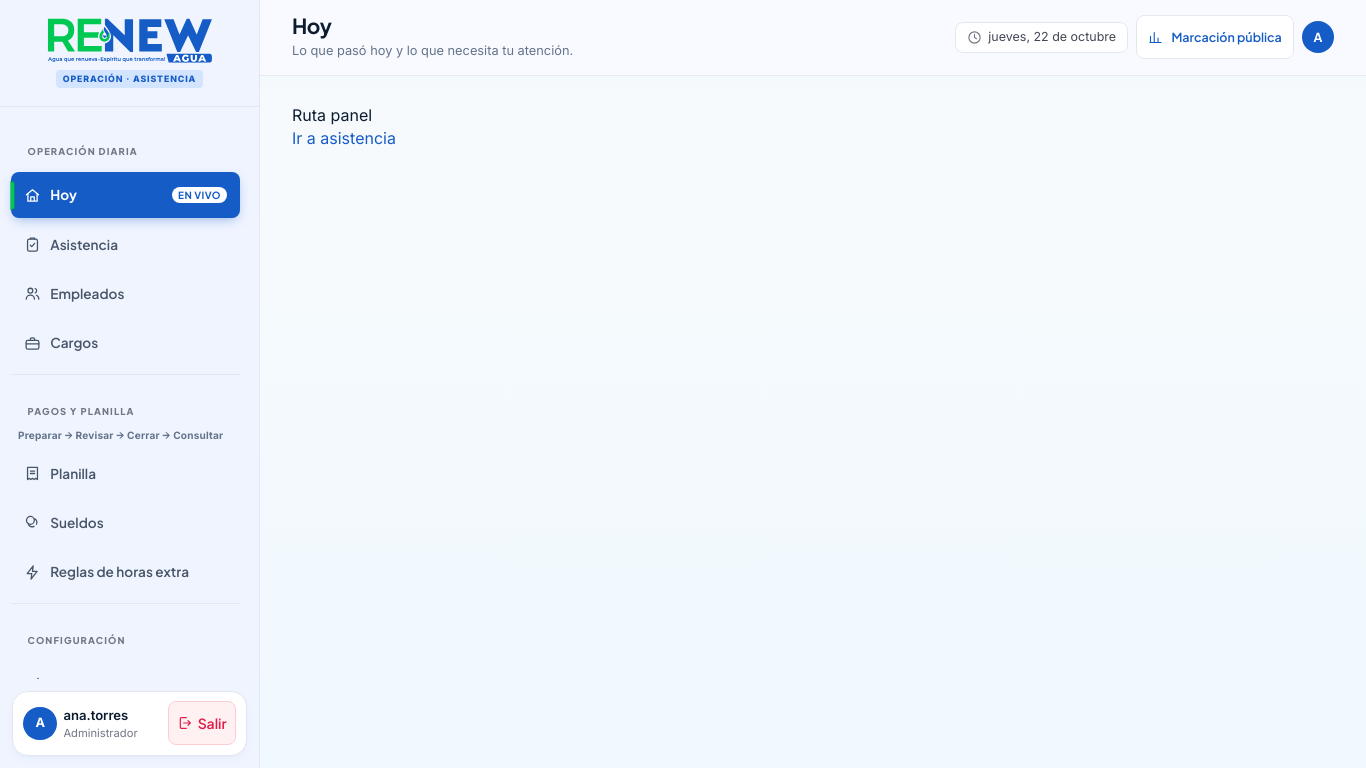
it: AdminLayout — guardas de sesión › navegar entre dos rutas privadas no repite /auth/me (regresión navigateRef/Suspense)
Expected: the text "Ruta panel" is shown, x1=292 y1=105 x2=372 y2=125
Step 1. Click the link "Ir a asistencia" → {"x": 344, "y": 138}, box x1=292 y1=128 x2=396 y2=148
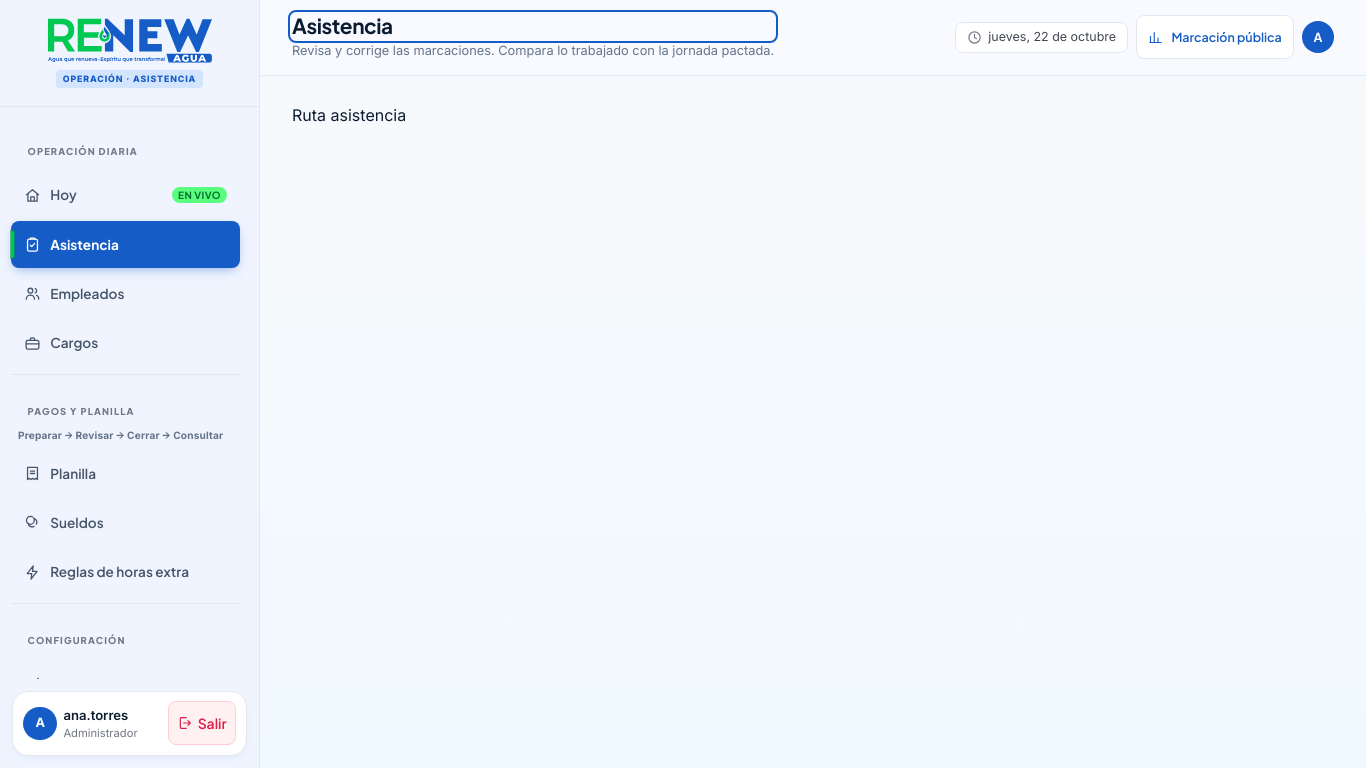
Expected: the text "Ruta asistencia" is shown, x1=292 y1=105 x2=406 y2=125
